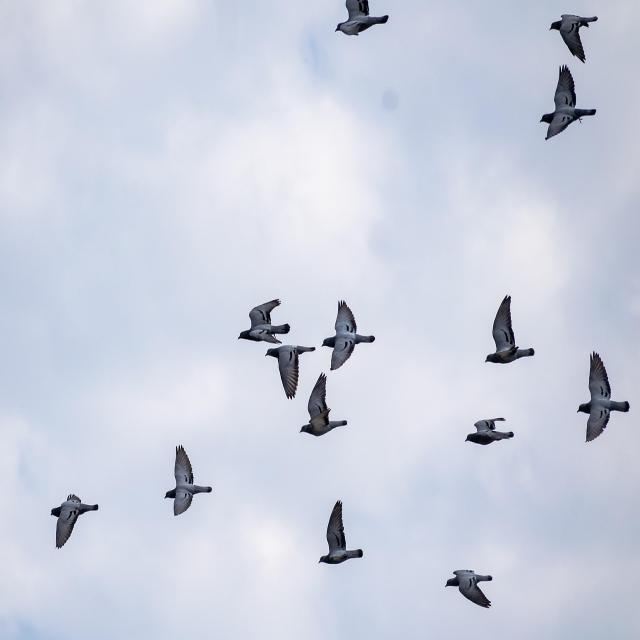pegion: (218, 274, 379, 361), (43, 453, 114, 554), (153, 442, 225, 535), (568, 354, 627, 466), (468, 284, 545, 368), (518, 56, 590, 142), (421, 530, 496, 610), (299, 522, 372, 586), (290, 383, 361, 446), (309, 0, 406, 39), (479, 414, 527, 456), (540, 8, 612, 33)
